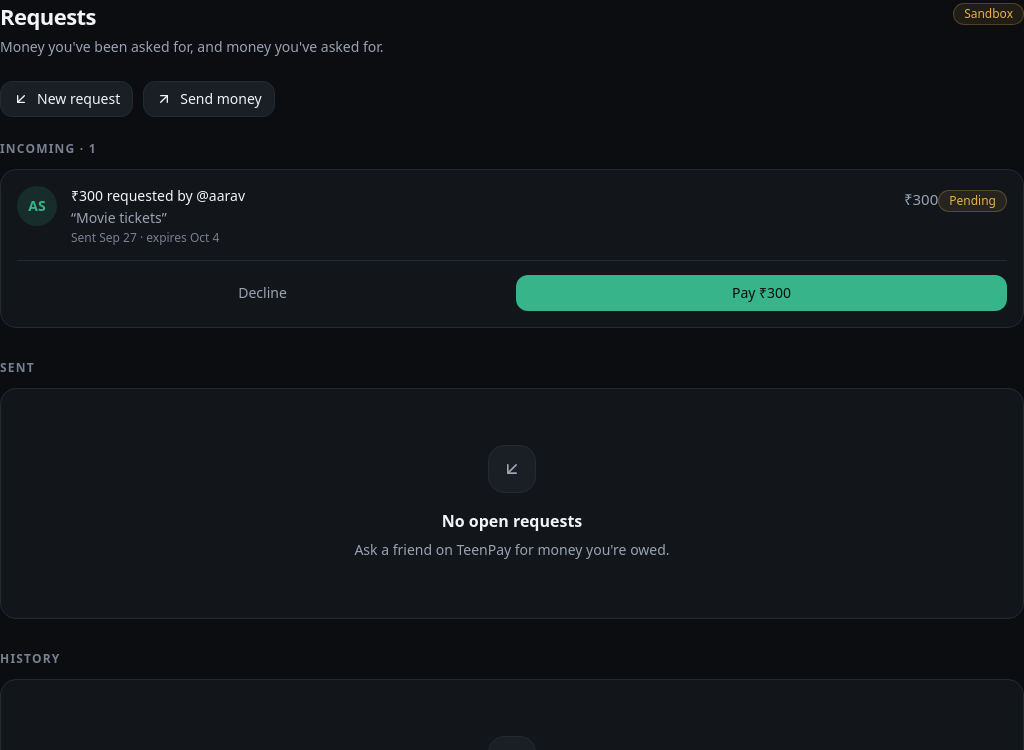
Test case: Requests center › Incoming: Decline → declined, no money
The width and height of the screenshot is (1024, 750).
Click the button "Decline" at (262, 293), box [17,275,508,311]
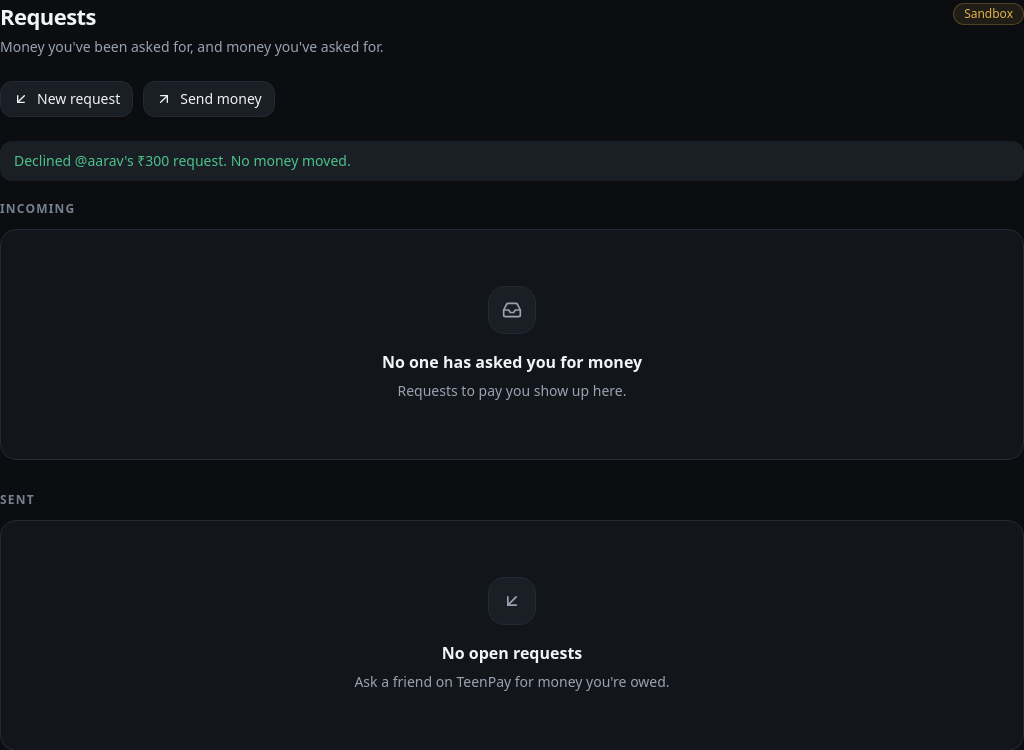
Check: the text "Declined @aarav's ₹300 request. No money moved." is shown, box [0,141,1023,181]
